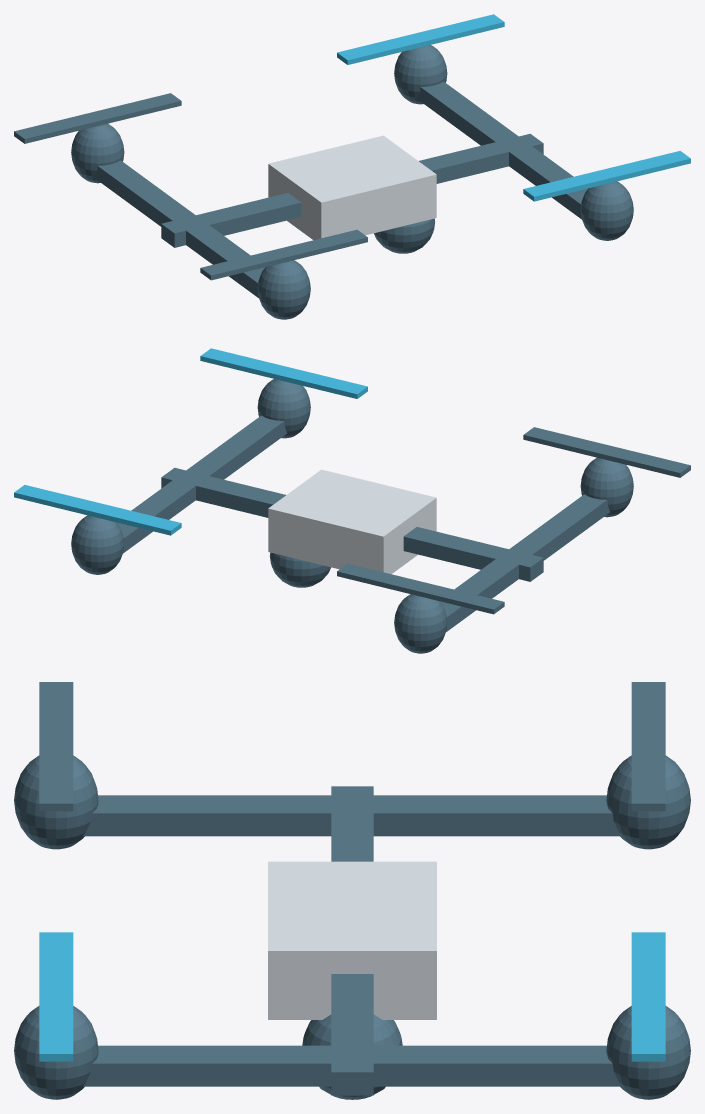
File: quadcopter.gltf
3 renders of one model, top to bottom at view 1: azimuth 30°, elevation 25°; view 2: azimuth 150°, elevation 25°; view 3: azimuth 270°, elevation 25°, orthographic. The views are drawn at different scales.
Size of the model in its own units: 2.08 by 0.49 by 1.6.
